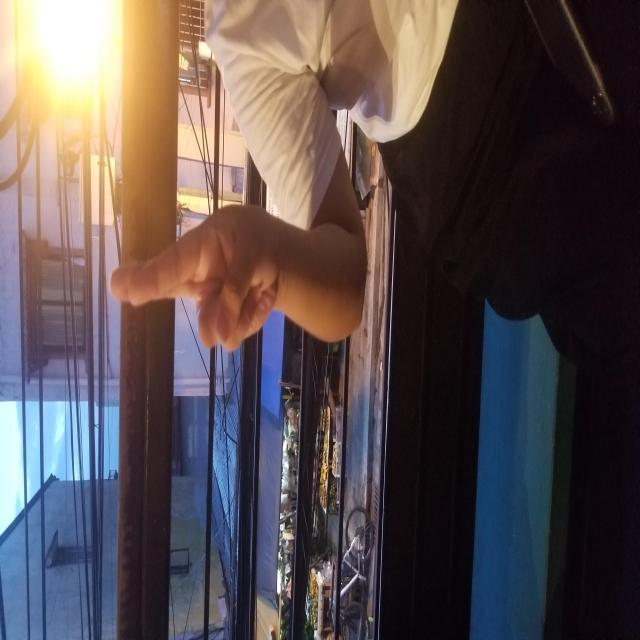R: (288, 110, 439, 282)
